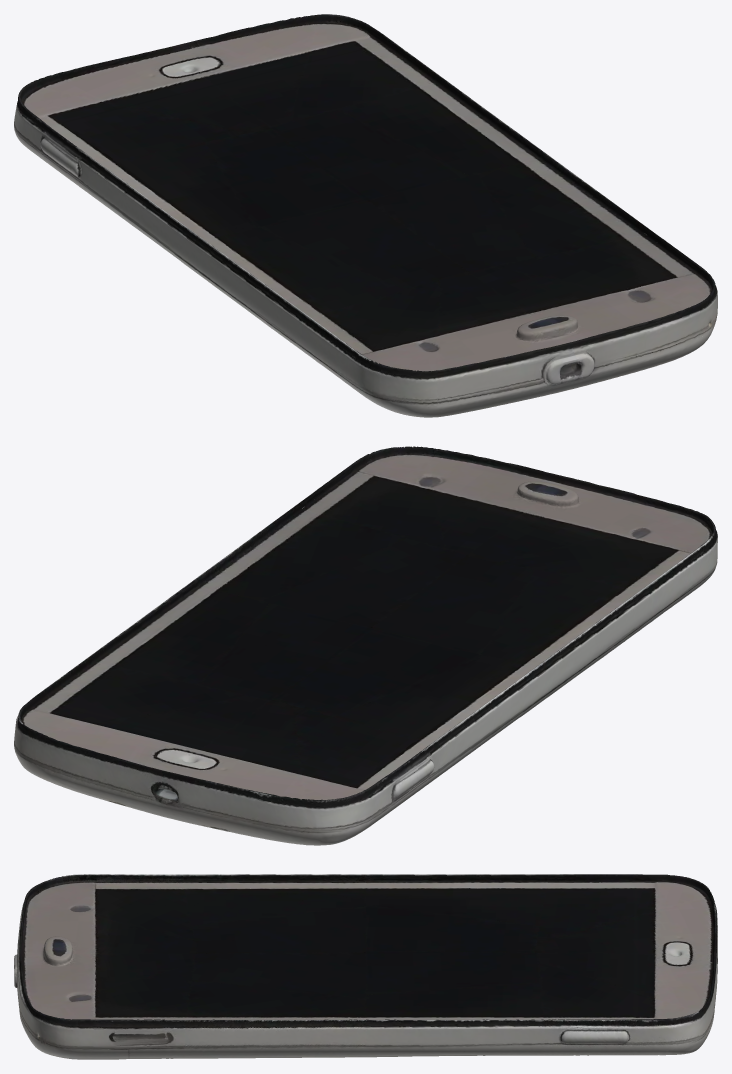
Rendered from Celular.glb.
The picture shows the model from 3 angles, top to bottom: view 1: azimuth 30°, elevation 25°; view 2: azimuth 150°, elevation 25°; view 3: azimuth 270°, elevation 25°; orthographic projection. The views are drawn at different scales.
Parts seen in each view (by area): view 1: tripo_node_87dd8c8c-31e1-42e6-8429-69299454bf30; view 2: tripo_node_87dd8c8c-31e1-42e6-8429-69299454bf30; view 3: tripo_node_87dd8c8c-31e1-42e6-8429-69299454bf30.
Part boxes in pixels (box(x1,y1,x2,y2)): tripo_node_87dd8c8c-31e1-42e6-8429-69299454bf30: box(14, 14, 717, 417); tripo_node_87dd8c8c-31e1-42e6-8429-69299454bf30: box(14, 446, 717, 845); tripo_node_87dd8c8c-31e1-42e6-8429-69299454bf30: box(14, 874, 717, 1059).
Bounding box in the file's own units: 0.51 × 0.0918 × 1.
Materials: 1 (1 with a texture image).
